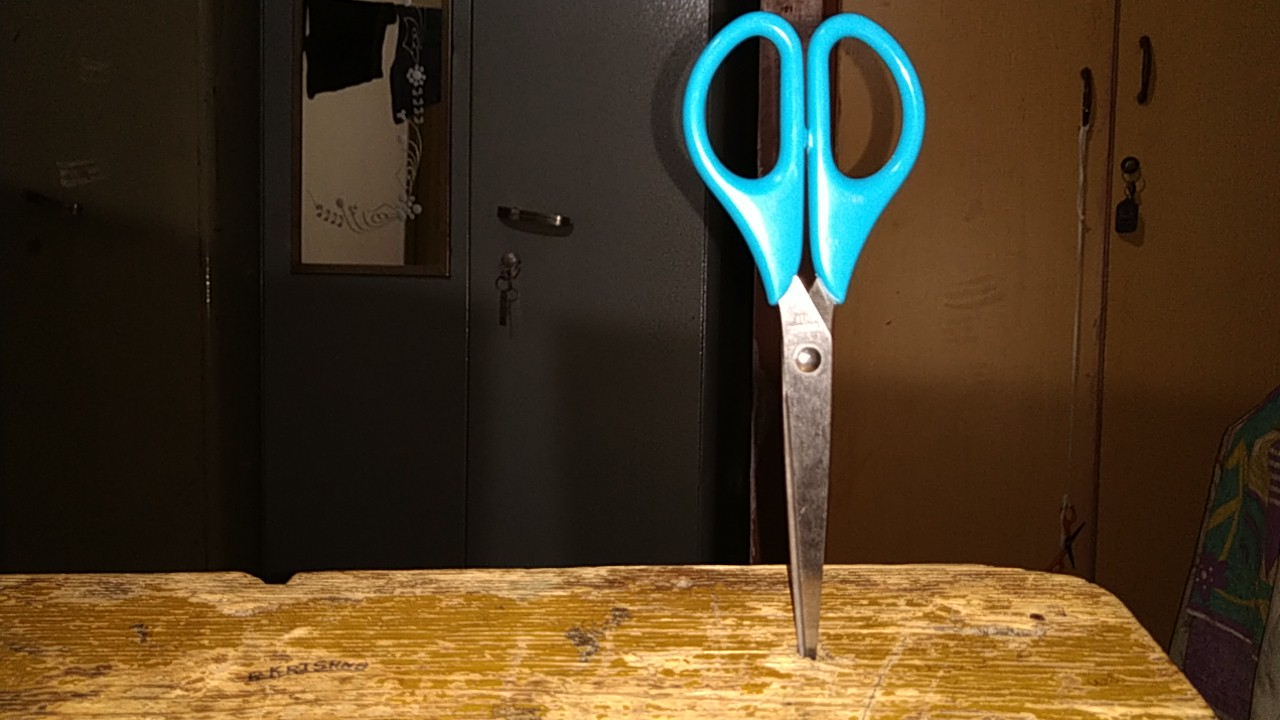scissor: (656, 8, 949, 679)
